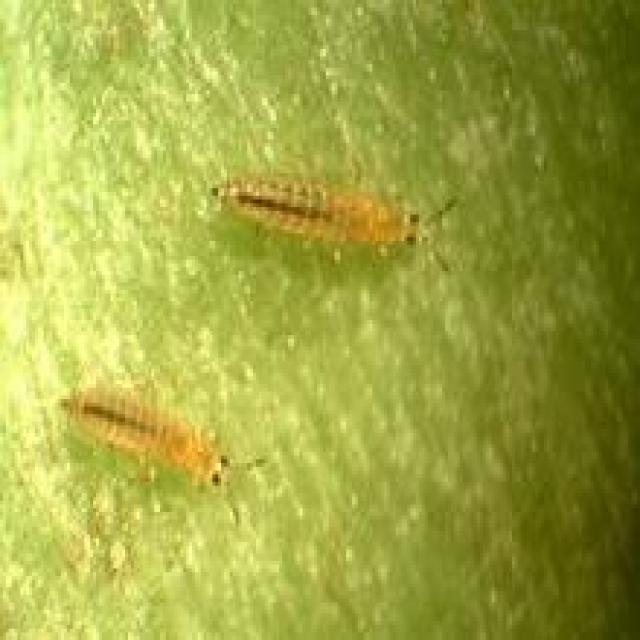Thrip-Larva-: (199, 152, 475, 285), (43, 377, 249, 521)
